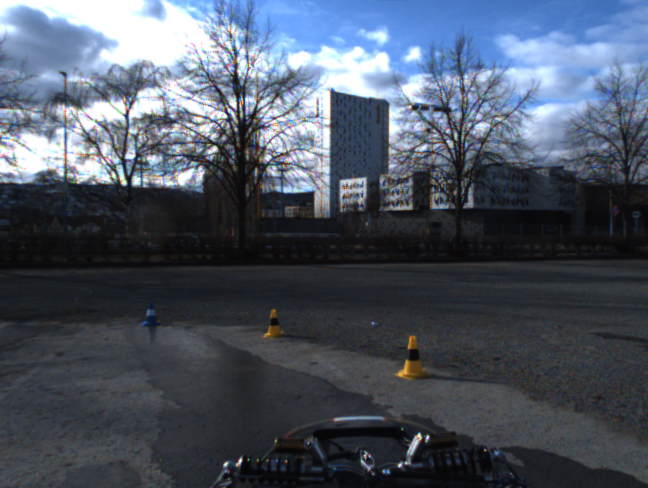cone-small-blue: (141, 301, 161, 327)
cone-small-yellow: (394, 335, 433, 381), (262, 309, 288, 340)
